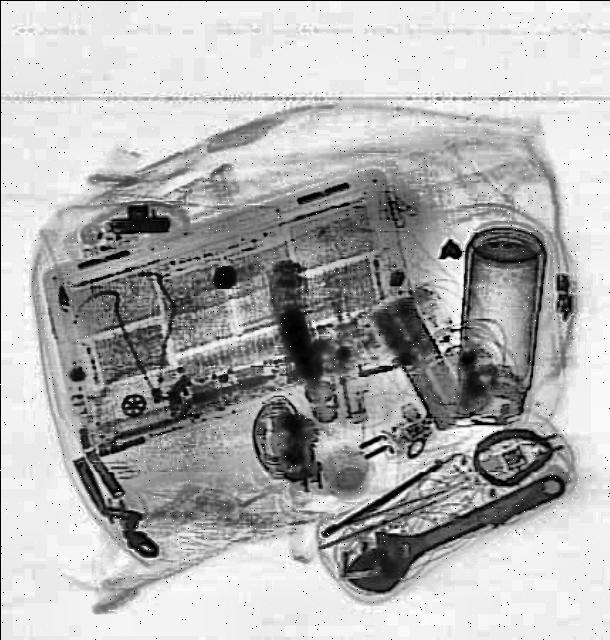Wrench: (327, 446, 575, 604)
